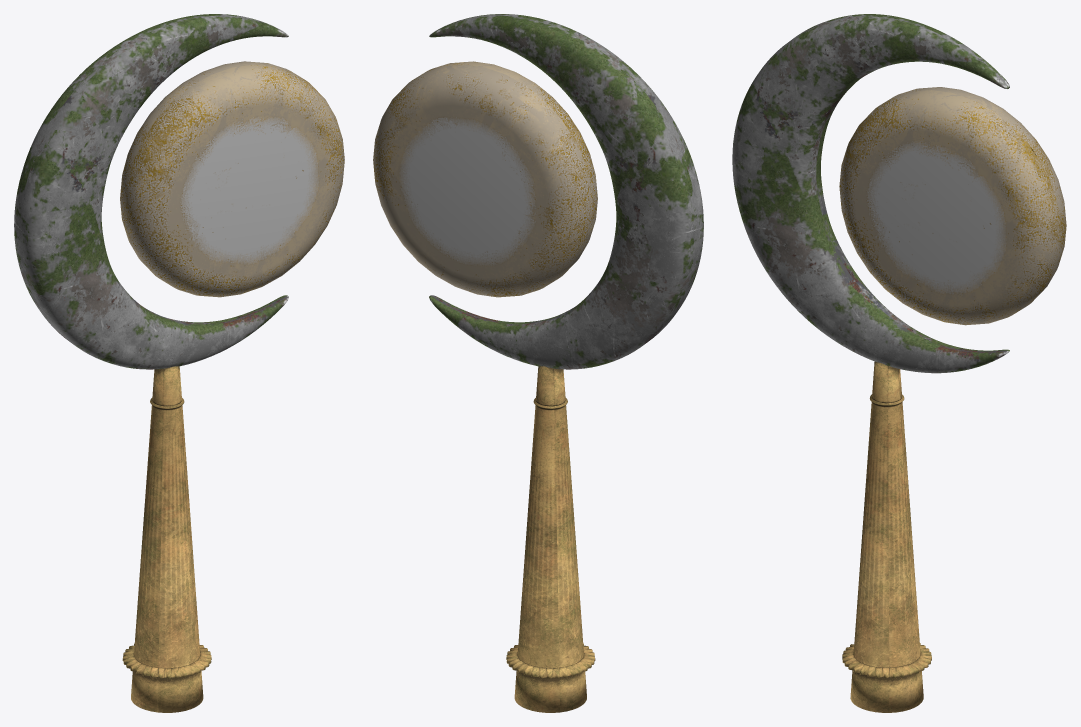
3 renders of one model, left to right at view 1: azimuth 30°, elevation 25°; view 2: azimuth 150°, elevation 25°; view 3: azimuth 330°, elevation 25°, orthographic.
Parts seen in each view (by area): view 1: Cylinder.001; view 2: Cylinder.001; view 3: Cylinder.001.
Part boxes in pixels (bbox=[...]): Cylinder.001: bbox=[14, 14, 344, 712]; Cylinder.001: bbox=[373, 14, 703, 712]; Cylinder.001: bbox=[732, 14, 1066, 712].
Bounding box in the file's own units: 619 × 1247 × 149.
Materials: 1 (1 with a texture image).
